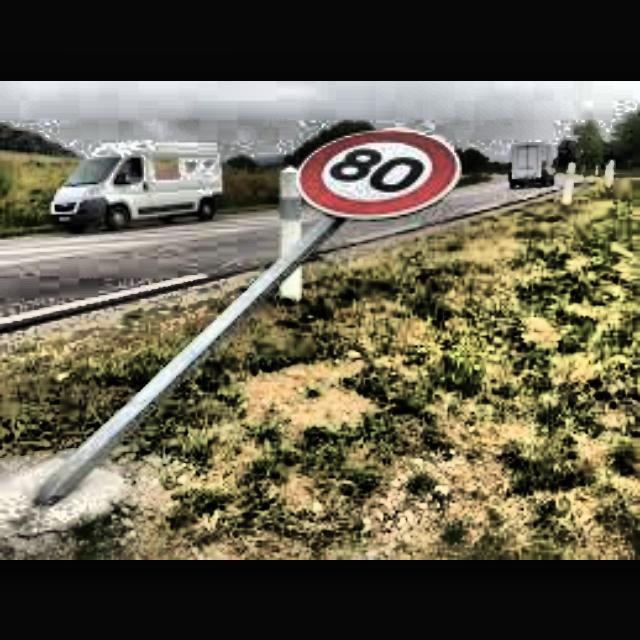speed_80: (296, 127, 460, 219)
